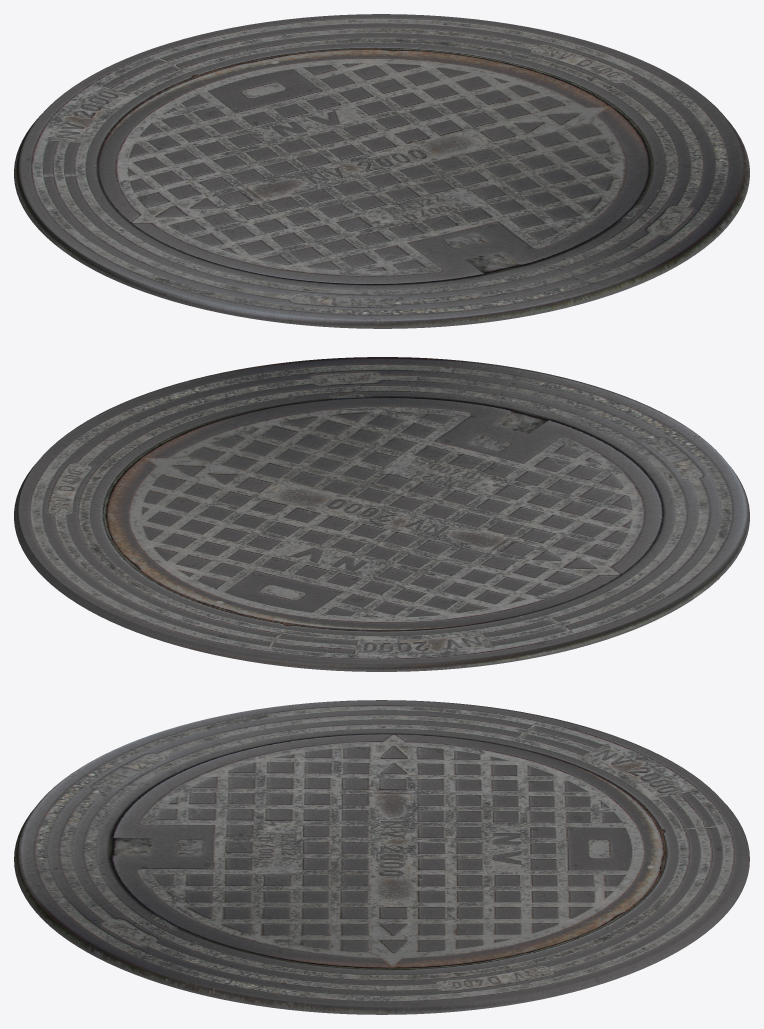
File: goal.fbx
The picture shows the model from 3 angles, top to bottom: view 1: azimuth 30°, elevation 25°; view 2: azimuth 150°, elevation 25°; view 3: azimuth 270°, elevation 25°; orthographic projection.
Visible parts, largest first — view 1: cover; view 2: cover; view 3: cover.
Part boxes in pixels (x1,y1,x2,y2): cover: (14, 14, 749, 328); cover: (14, 357, 749, 671); cover: (14, 700, 749, 1014).
Size of the model in its own units: 140 by 140 by 1.2.
1 material, 1 textured.
